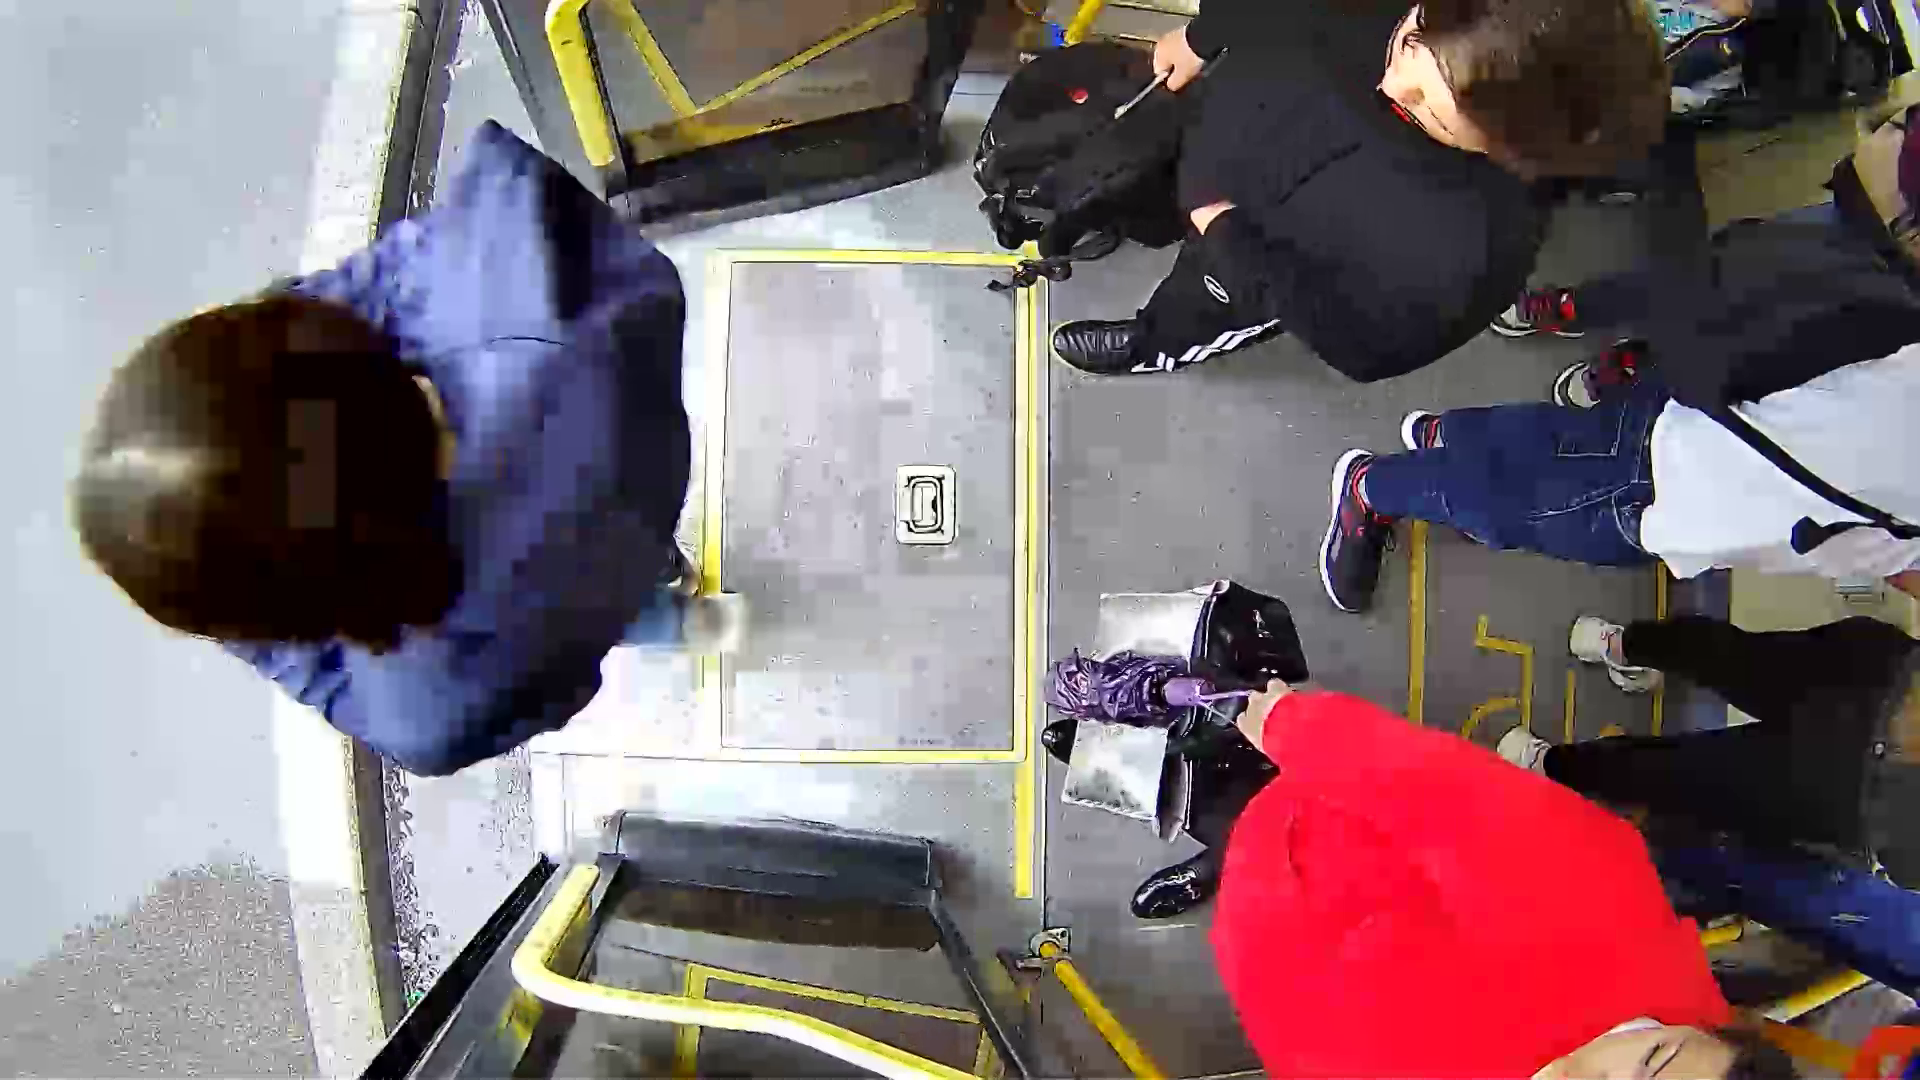person: (106, 215, 780, 747), (978, 18, 1663, 363)
